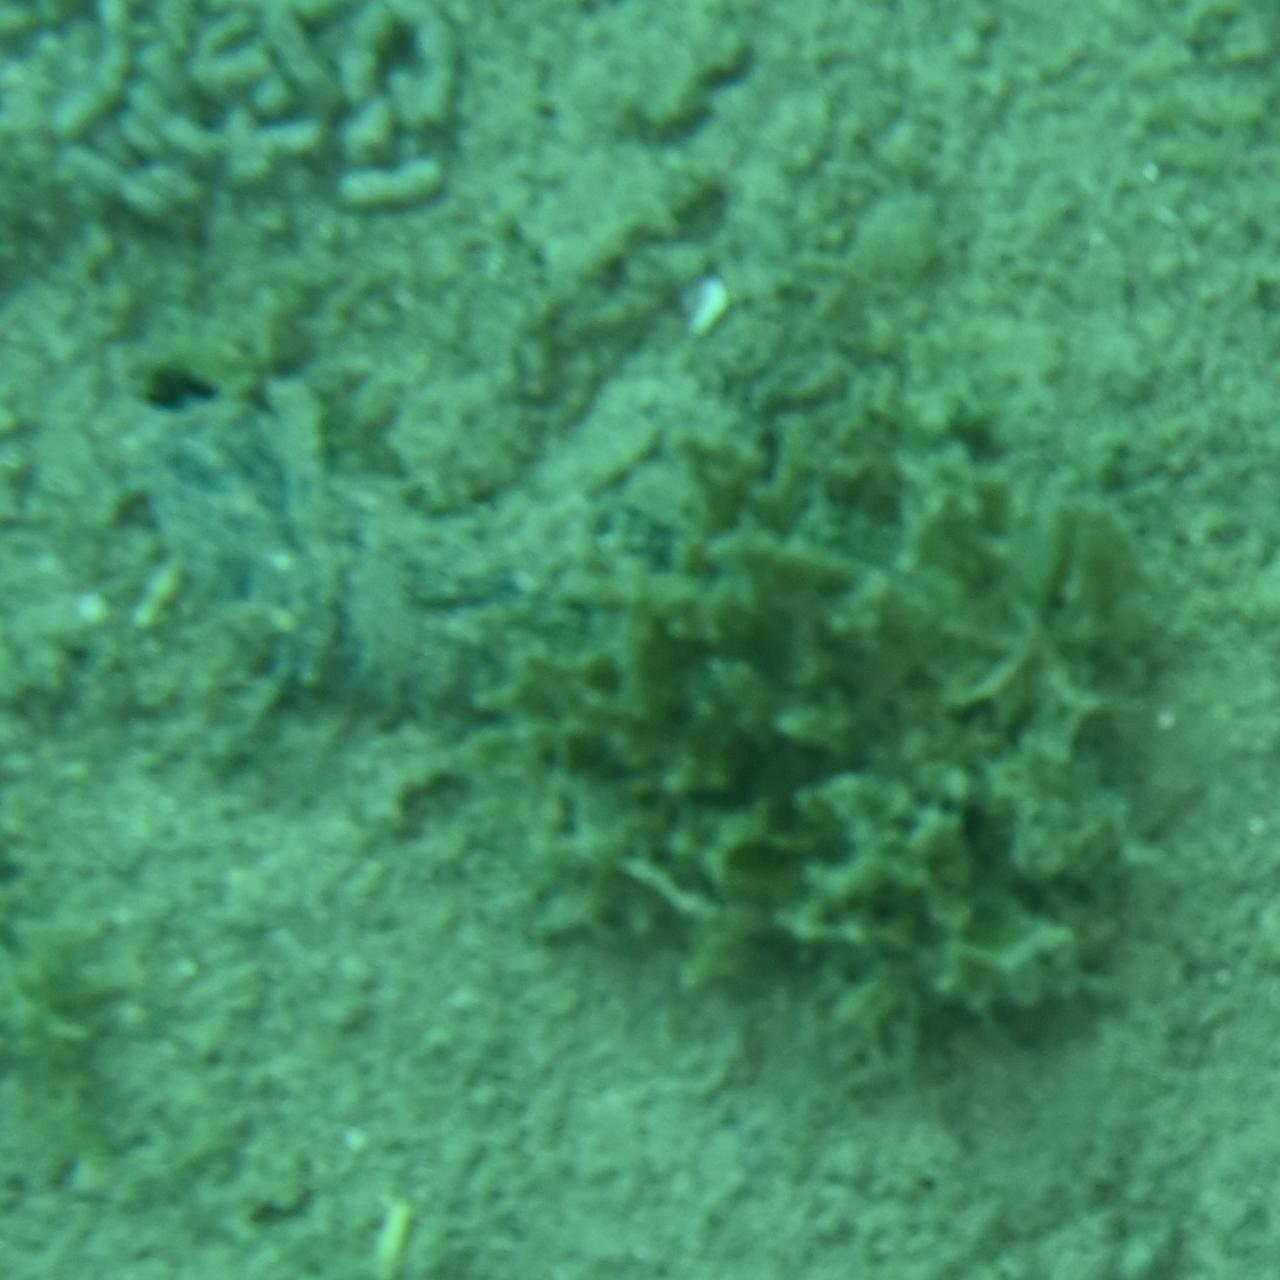Holothuria tubulosa: (109, 335, 751, 753)
Phaeophyceae -cfr Cystoseira-: (516, 388, 1186, 1084)
